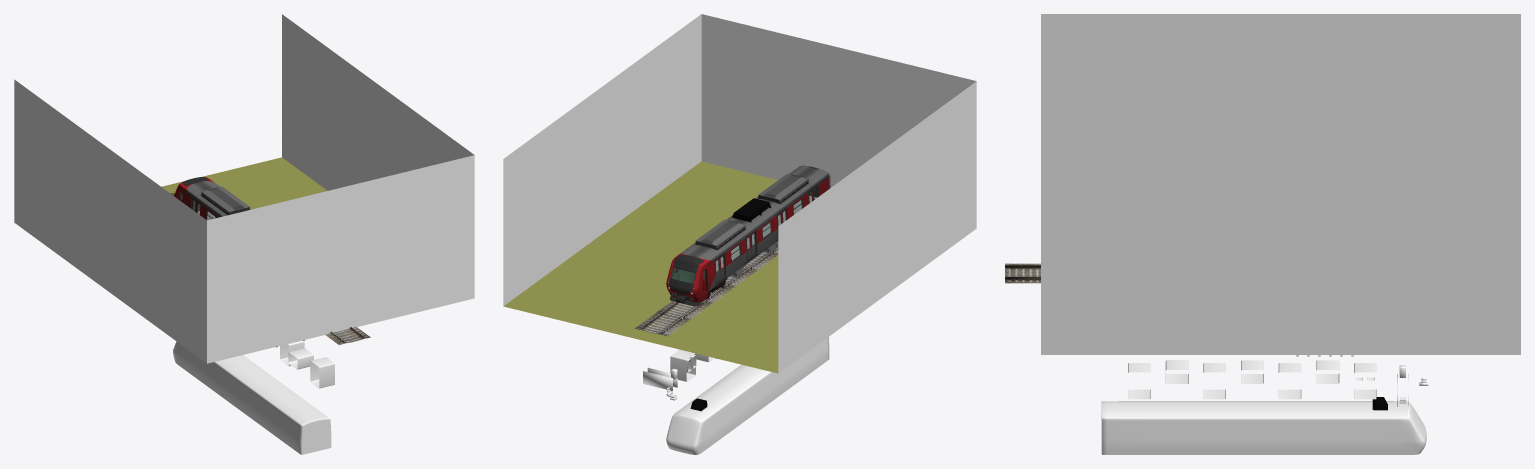
File: train.glb
3 views of the same model, side by side, from view 1: azimuth 30°, elevation 25°; view 2: azimuth 150°, elevation 25°; view 3: azimuth 270°, elevation 25° (orthographic). The views are drawn at different scales.
Parts seen in each view (by area): view 1: Cubo.009, Cubo.001, Cubo.010, Cubo, corte porta, Plano; view 2: Cubo.009, Cubo.010, Cubo, Cubo.001, Plano, corte porta, Cubo.002, Cubo.014; view 3: Cubo.009, Cubo.001, corte porta, Cubo.006, Plano.
Boxes of the visible parts, <box> form: Cubo.009: <box>14,14,474,363</box>; Cubo.001: <box>173,341,331,454</box>; Cubo.010: <box>161,157,327,209</box>; Cubo: <box>174,177,250,219</box>; corte porta: <box>280,340,334,388</box>; Plano: <box>170,193,370,345</box>; Cubo.009: <box>503,14,976,373</box>; Cubo.010: <box>503,161,778,373</box>; Cubo: <box>666,165,829,306</box>; Cubo.001: <box>666,337,829,454</box>; Plano: <box>635,247,778,336</box>; corte porta: <box>670,349,717,381</box>; Cubo.002: <box>643,367,677,390</box>; Cubo.014: <box>732,198,771,222</box>; Cubo.009: <box>1041,14,1520,354</box>; Cubo.001: <box>1101,401,1426,454</box>; corte porta: <box>1128,363,1376,399</box>; Cubo.006: <box>1241,360,1339,383</box>; Plano: <box>1005,263,1040,283</box>.
Bounding box in the file's own units: 18.46 × 18.56 × 24.76.
16 materials, 5 textured.
